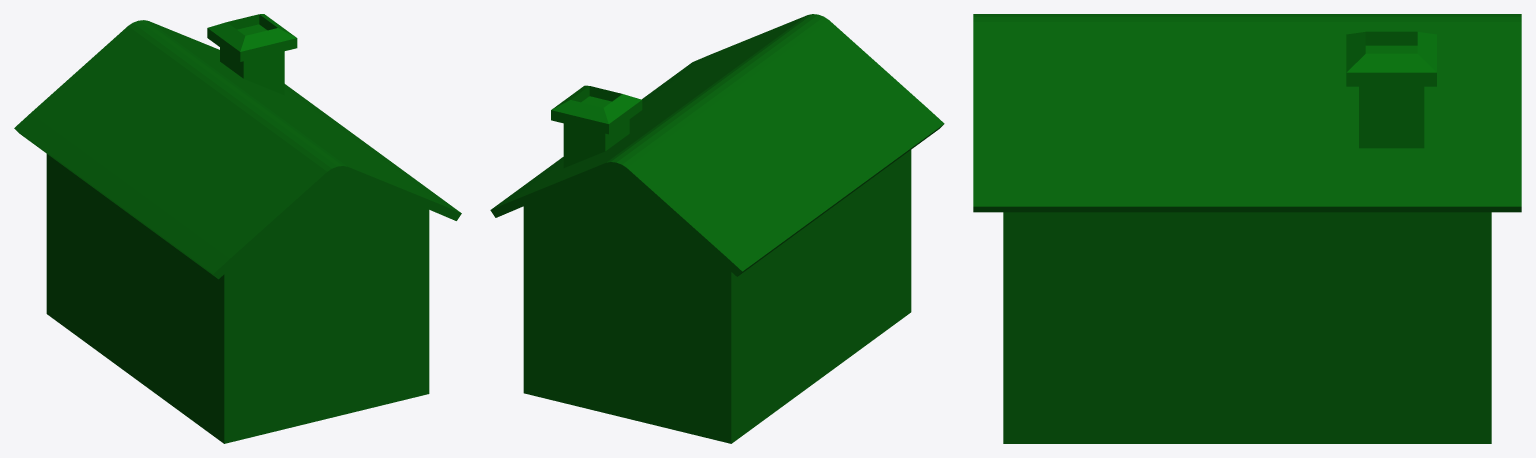
Rendered from monopolyHouse.fbx.
The picture shows the model from 3 angles, left to right: view 1: azimuth 30°, elevation 25°; view 2: azimuth 150°, elevation 25°; view 3: azimuth 270°, elevation 25°; orthographic projection. The views are drawn at different scales.
Parts seen in each view (by area): view 1: Cube, Roof, Chimney; view 2: Cube, Roof, Chimney; view 3: Cube, Roof, Chimney.
Boxes of the visible parts, x1,y1,x2,y2 form: Cube: [46, 154, 429, 443]; Roof: [14, 20, 461, 279]; Chimney: [207, 14, 297, 95]; Cube: [523, 150, 911, 443]; Roof: [490, 14, 944, 276]; Chimney: [551, 85, 642, 167]; Cube: [1003, 212, 1491, 443]; Roof: [973, 14, 1521, 212]; Chimney: [1346, 31, 1436, 148].
Size of the model in its own units: 4.85 by 5.12 by 6.74.
